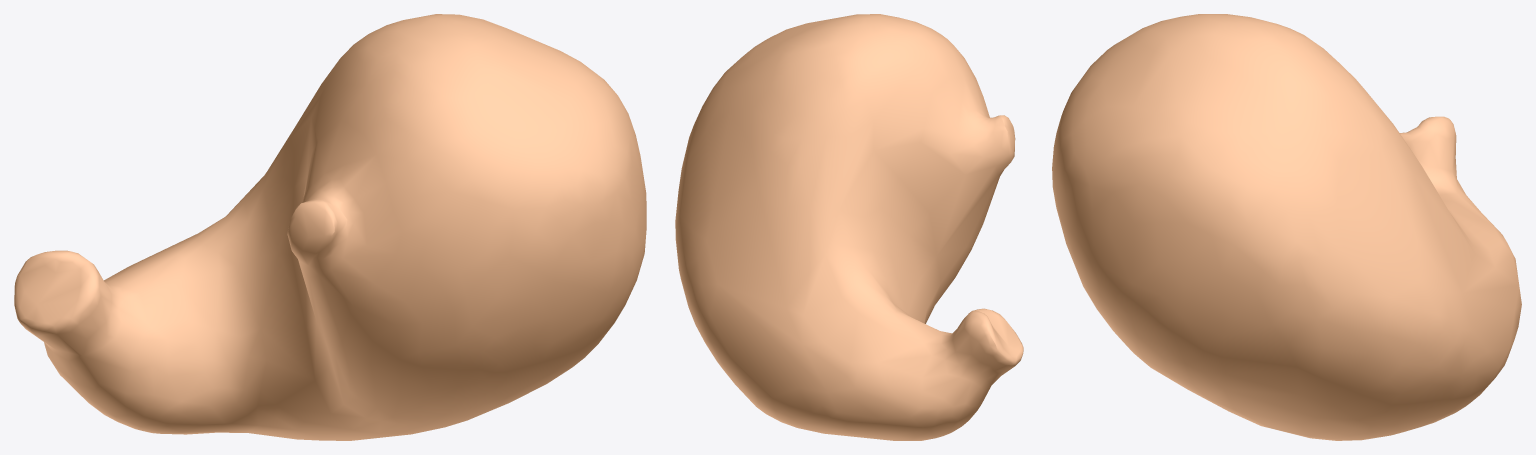
File: stomach.glb
3 renders of one model, left to right at view 1: azimuth 30°, elevation 25°; view 2: azimuth 150°, elevation 25°; view 3: azimuth 270°, elevation 25°, orthographic. The views are drawn at different scales.
Parts seen in each view (by area): view 1: grp1; view 2: grp1; view 3: grp1.
Part boxes in pixels (left/top/right/bottom): grp1: left=14, top=14, right=646, bottom=440; grp1: left=675, top=14, right=1023, bottom=440; grp1: left=1052, top=14, right=1521, bottom=440.
Bounding box in the file's own units: 134 × 113 × 117.
